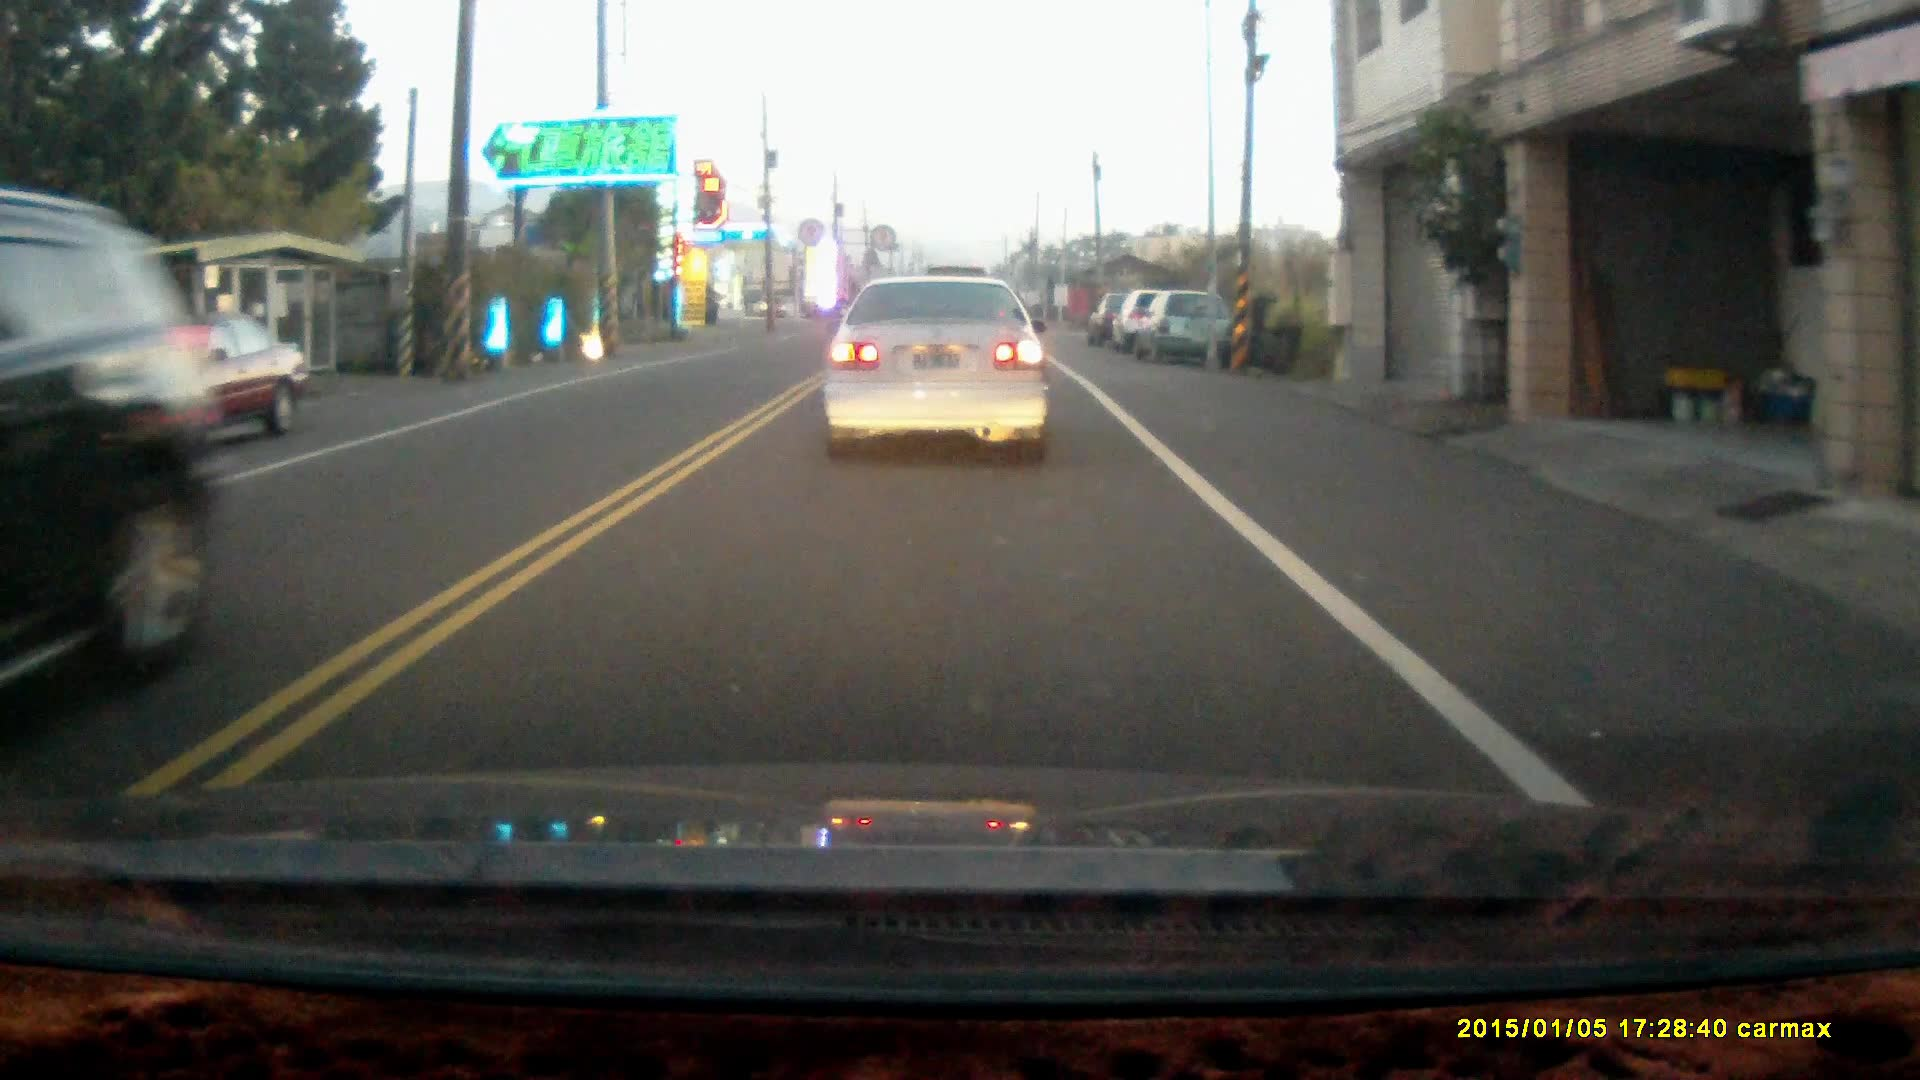vehicle: (1, 186, 222, 712), (819, 273, 1048, 463), (1131, 291, 1232, 365), (1116, 293, 1199, 356)
